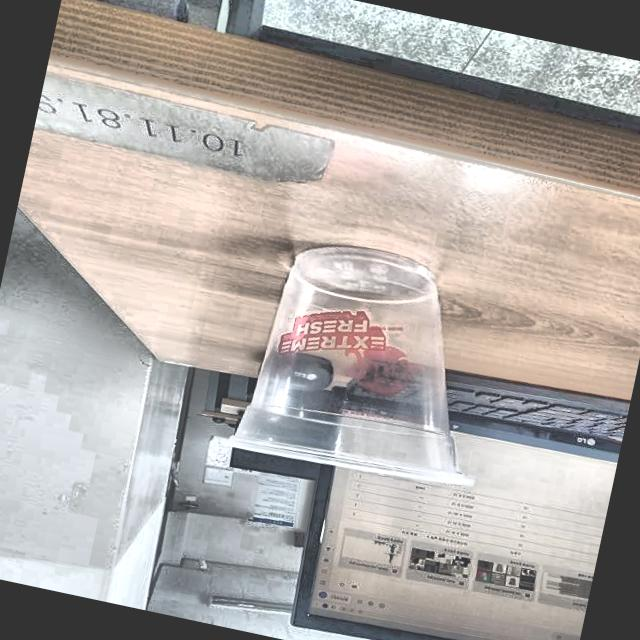plastic cup: (218, 226, 520, 498)
